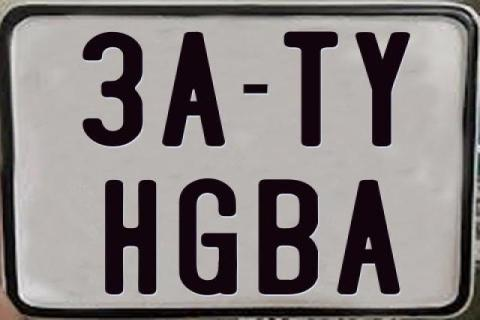0: (80, 30, 145, 148)
A: (162, 31, 231, 146), (338, 178, 401, 294)
B: (255, 178, 321, 296)
G: (176, 178, 236, 298)
H: (102, 178, 155, 294)
T: (282, 29, 341, 149)
Y: (353, 32, 409, 147)
